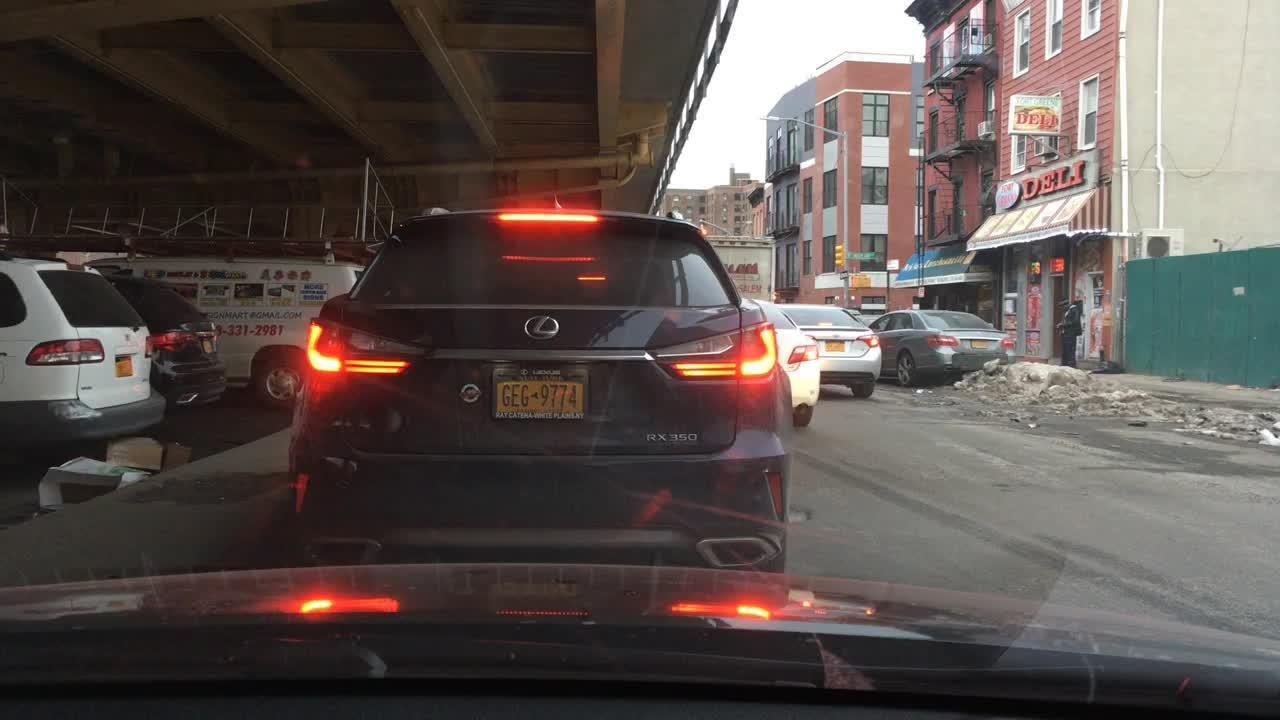lexus: (505, 301, 576, 349)
